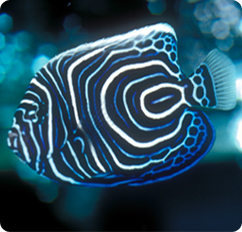Pomacanthus_imperator: (2, 21, 237, 193)
